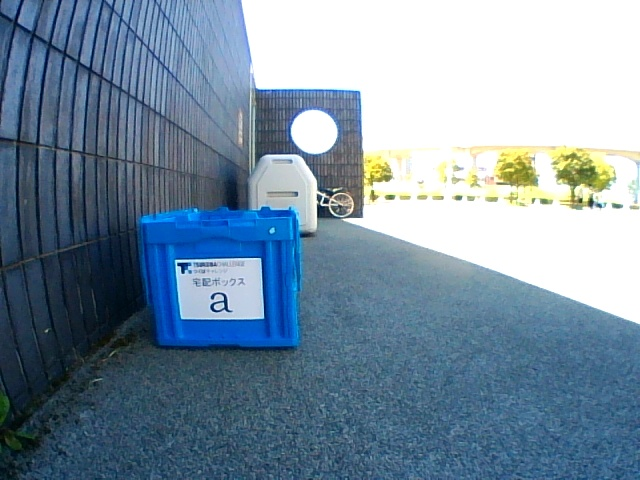blue_box: (138, 207, 300, 348)
tag_a: (181, 261, 261, 318)
